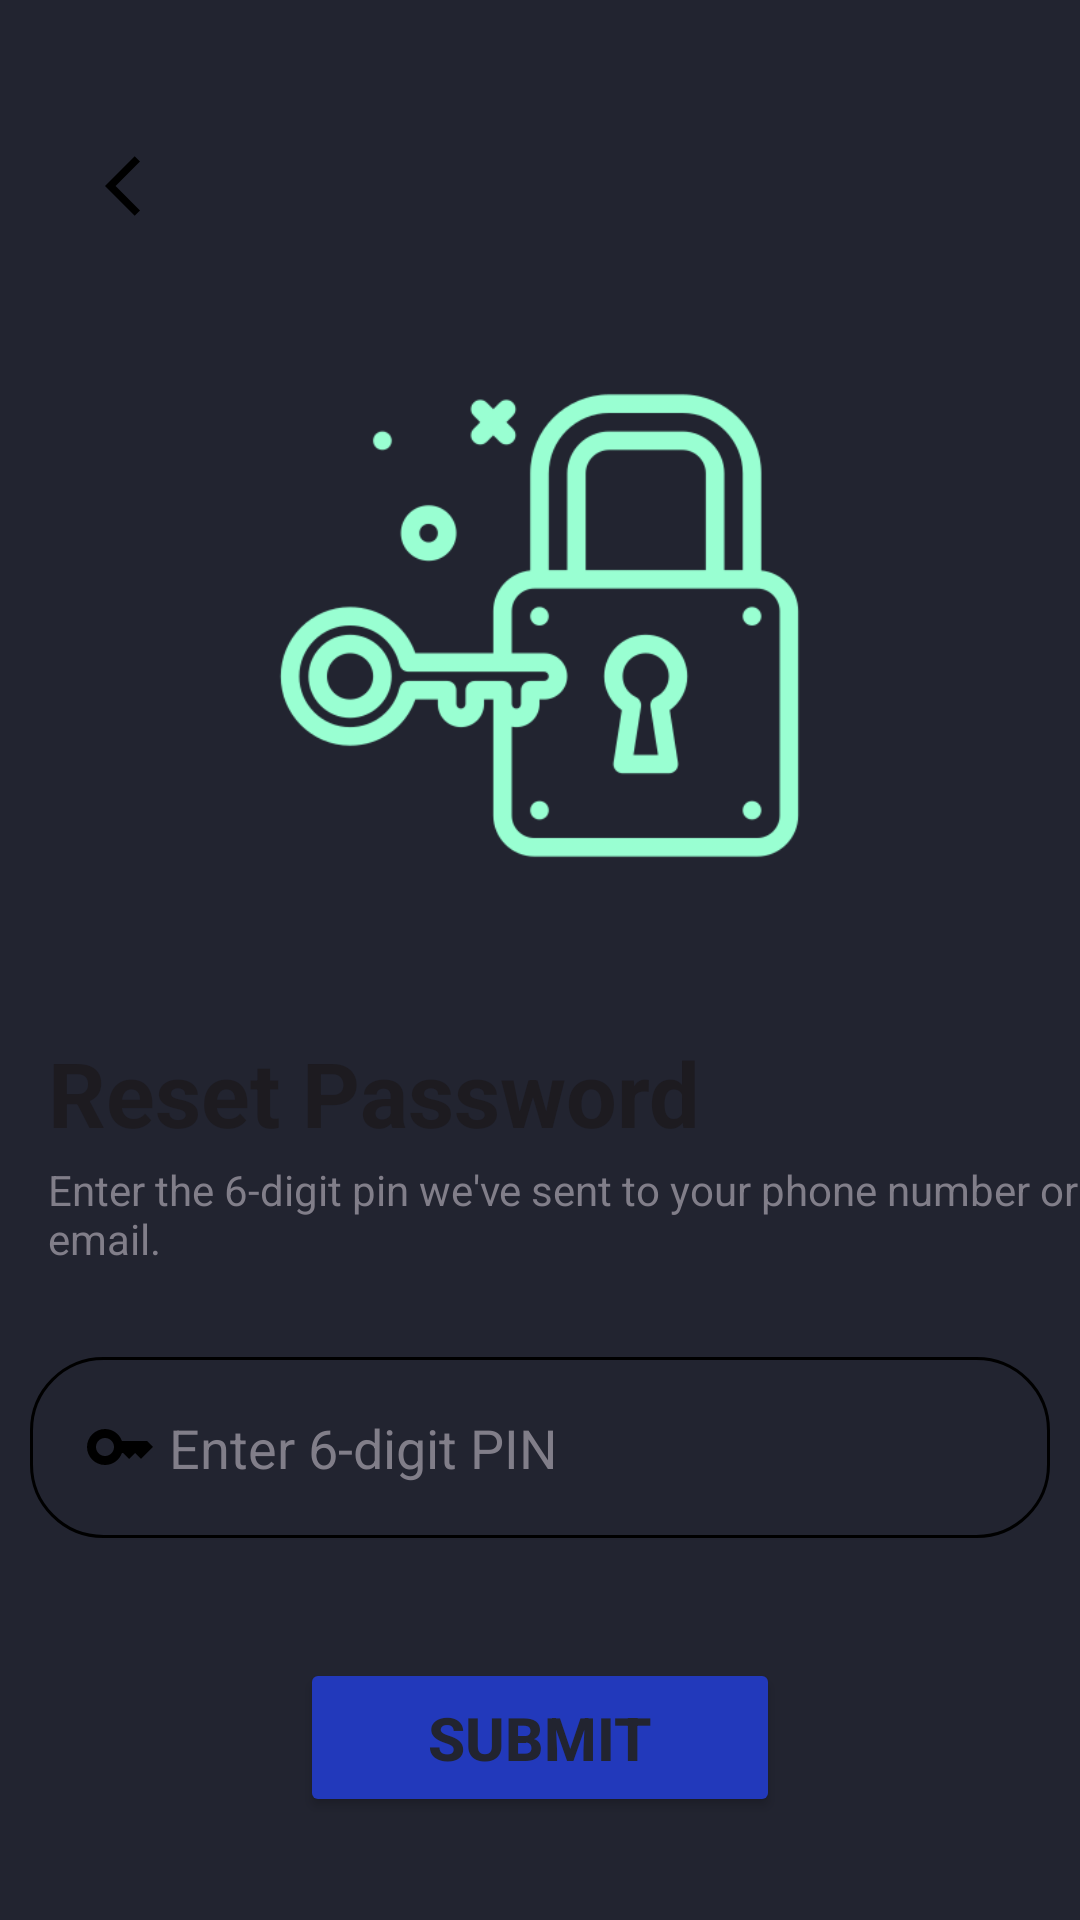

Icon click points for this 1080px x 1920px phone screenshot, format (x=x, y=y):
arrow back: (x=123, y=186)
